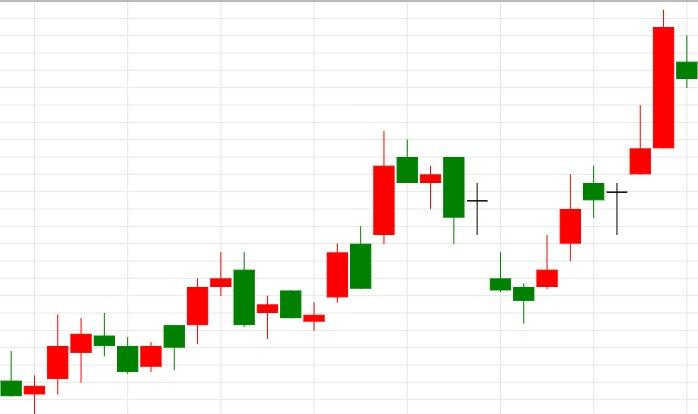bearish_engulfing_fall: (140, 252, 255, 373)
shooting_star_fall: (514, 104, 651, 324)
